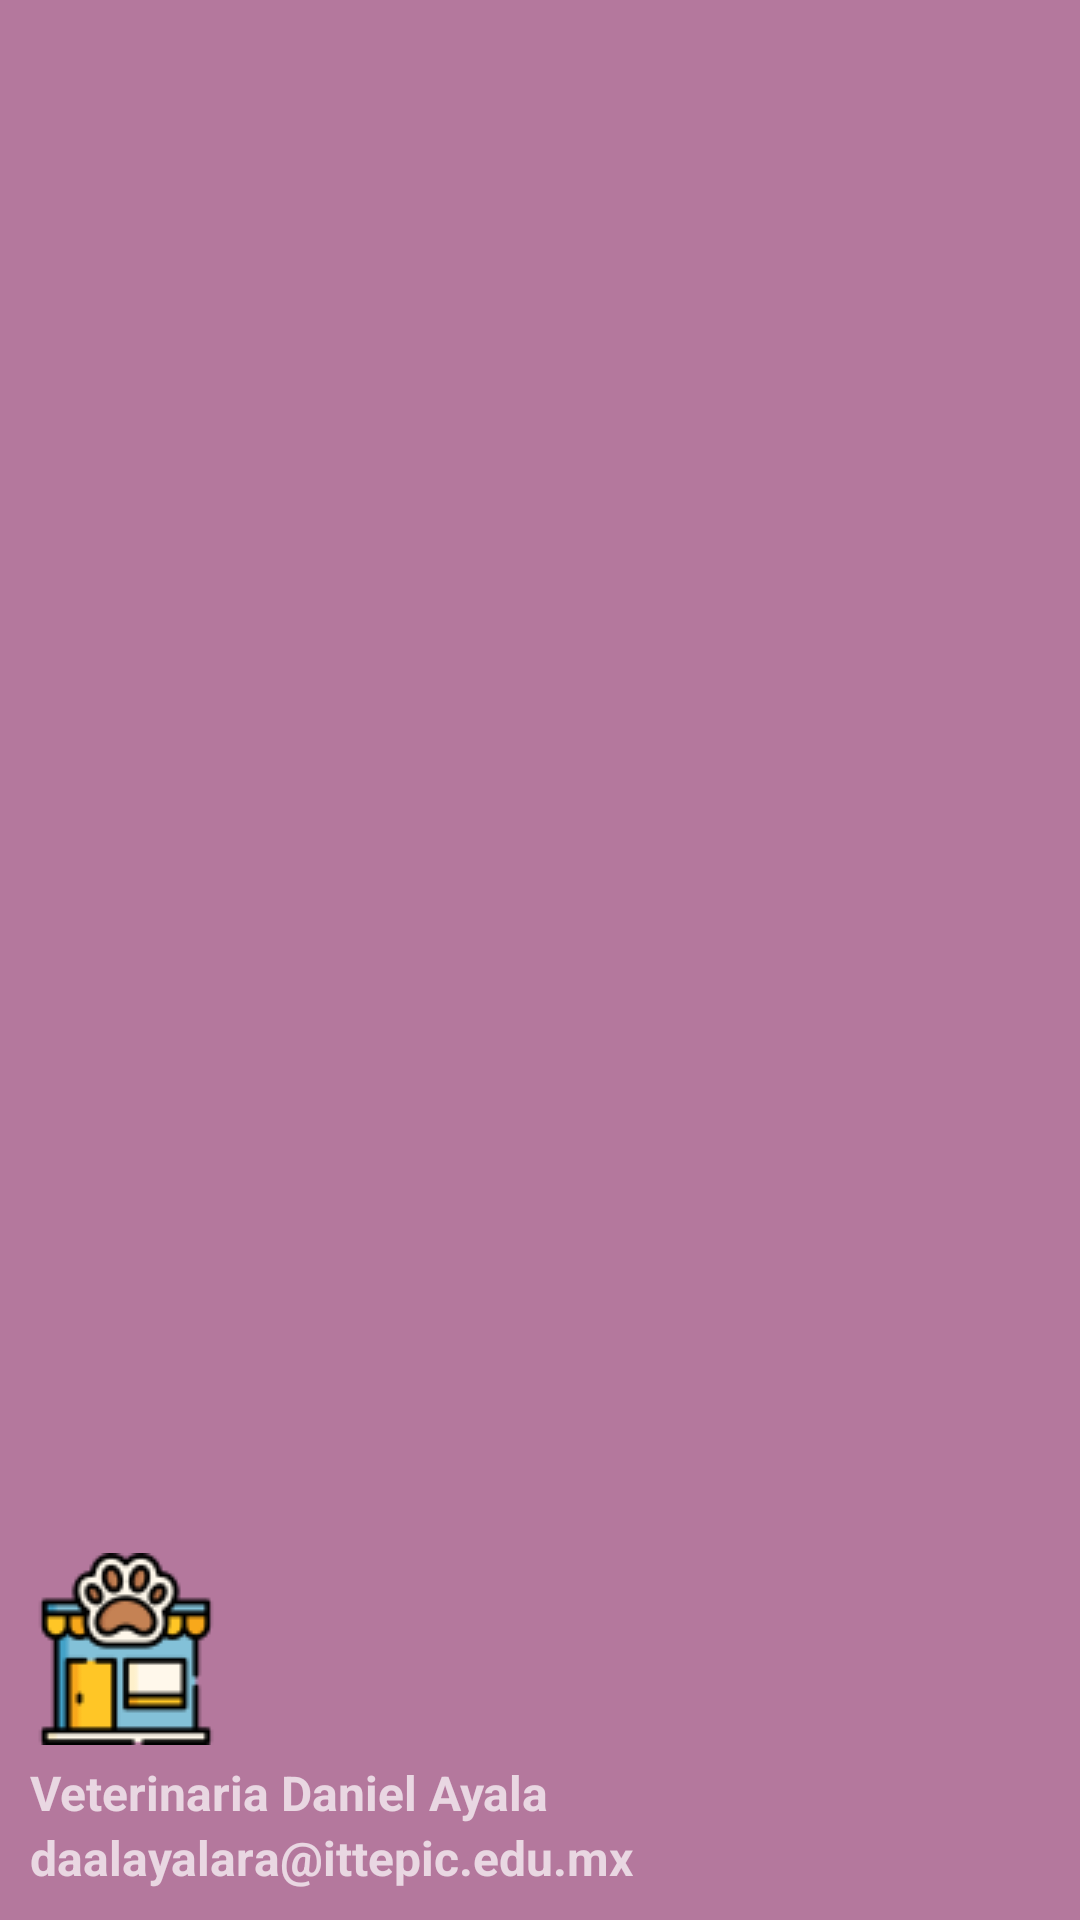

Point at icon controls on the screen. Image size 1080 x 1920, points as point (x, y).
petshop: point (126, 1649)
